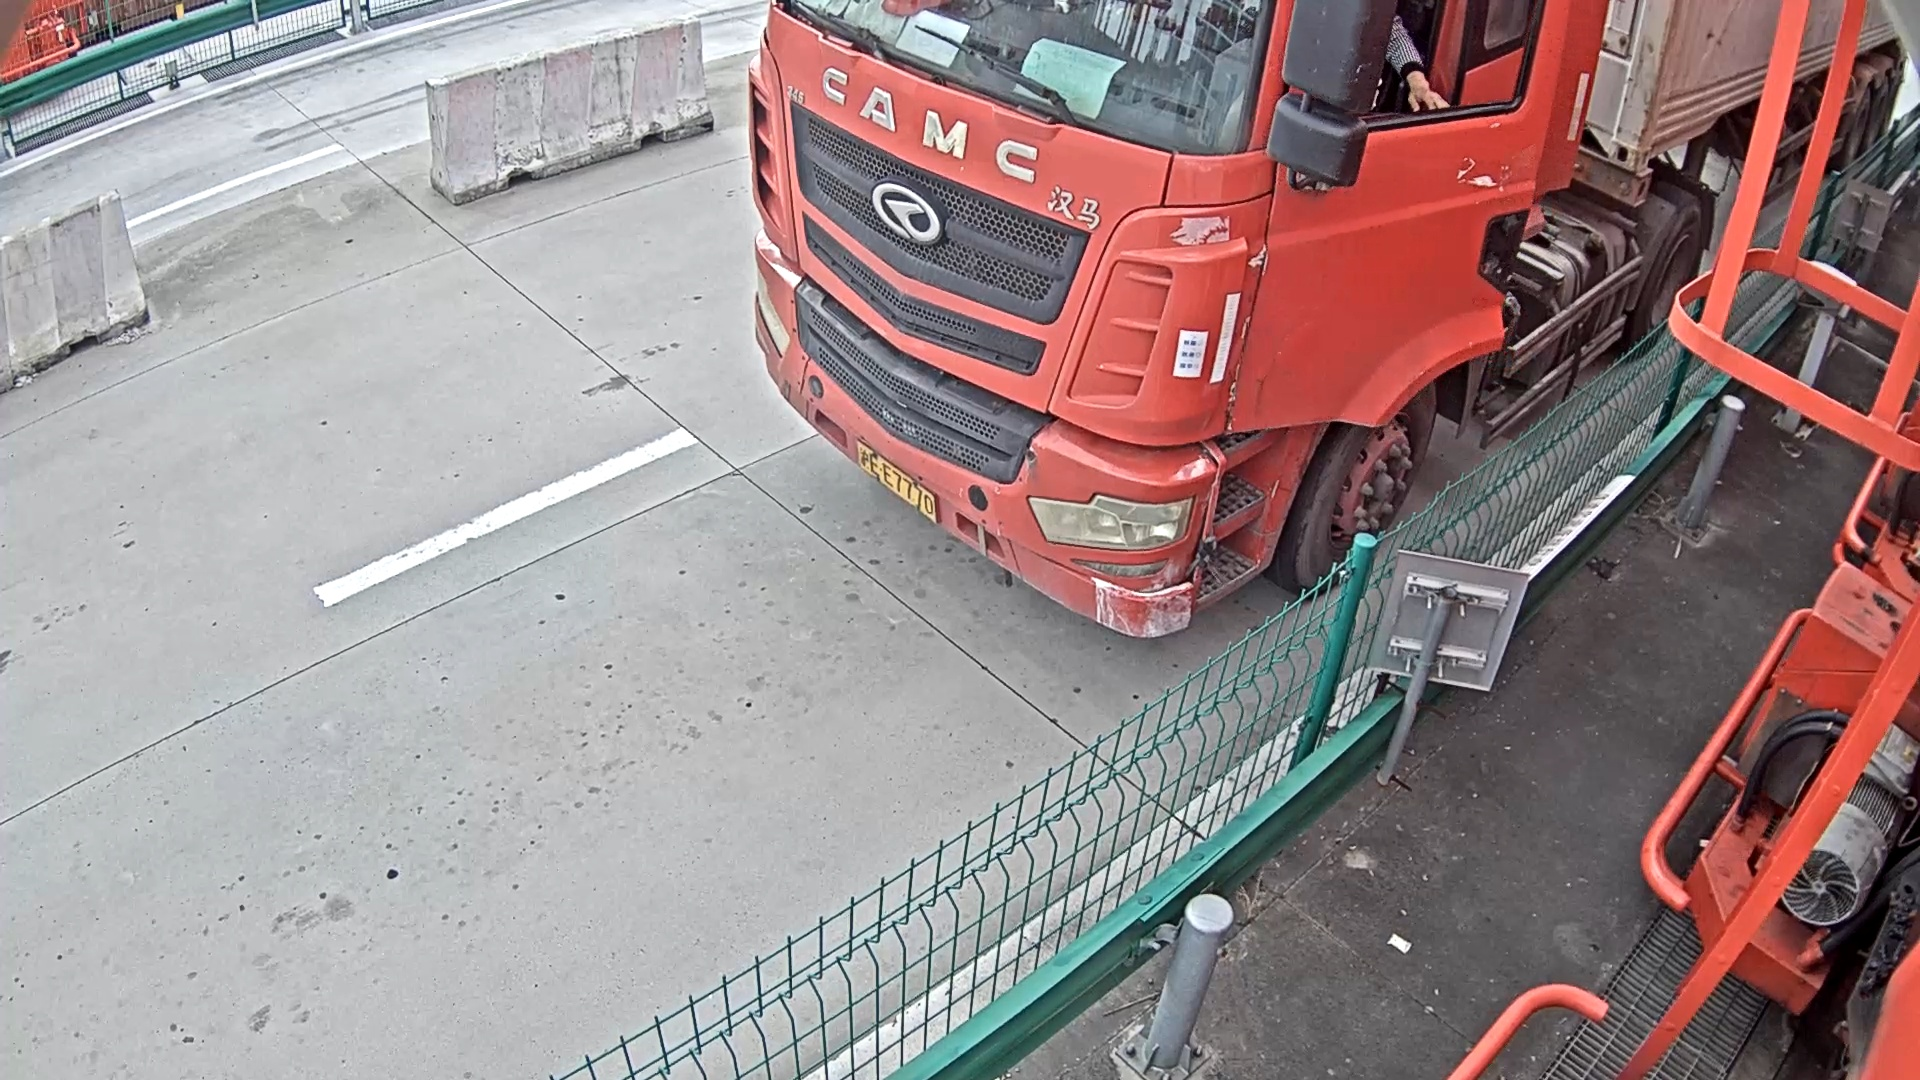head: (759, 1, 1590, 645)
plate: (860, 433, 939, 521)
